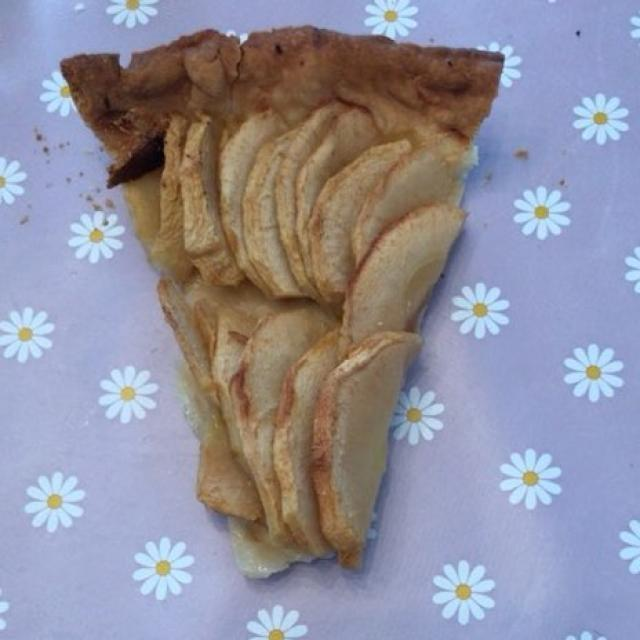apple-pie: (68, 38, 493, 569)
